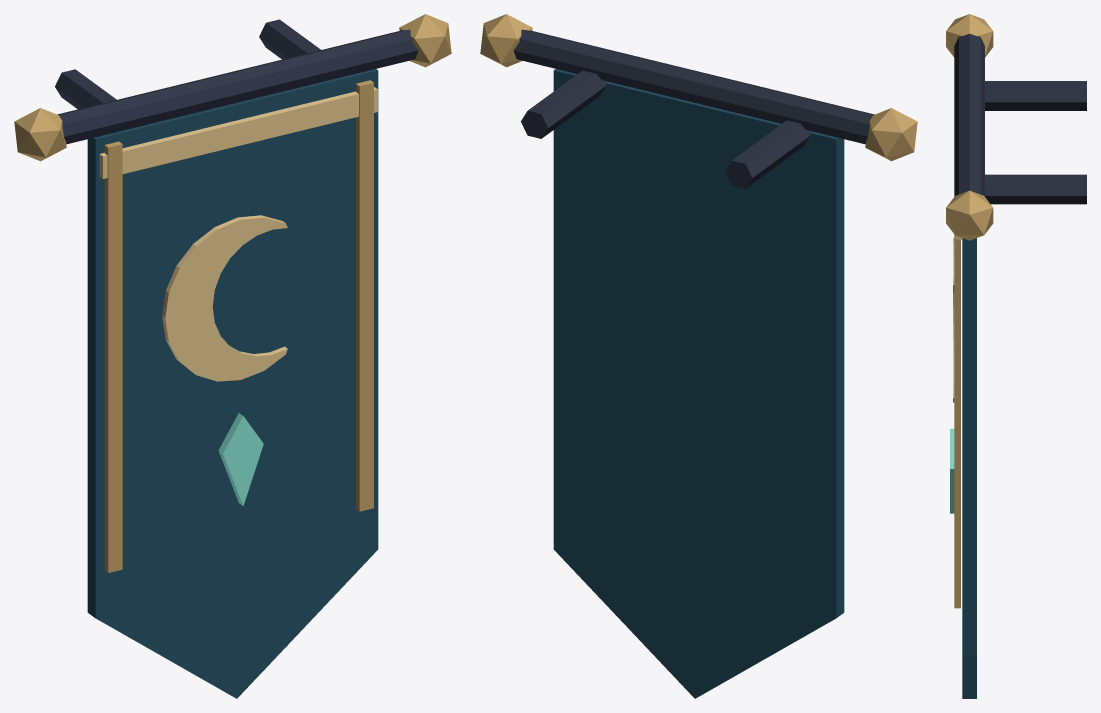
Rendered from EG_Estandarte_Luna.fbx.
The picture shows the model from 3 angles, left to right: view 1: azimuth 30°, elevation 25°; view 2: azimuth 150°, elevation 25°; view 3: azimuth 270°, elevation 25°; orthographic projection. The views are drawn at different scales.
Parts seen in each view (by area): view 1: EG_Estandarte_Luna; view 2: EG_Estandarte_Luna; view 3: EG_Estandarte_Luna.
Boxes of the visible parts, bbox=[...] form: EG_Estandarte_Luna: bbox=[14, 14, 451, 698]; EG_Estandarte_Luna: bbox=[480, 14, 917, 698]; EG_Estandarte_Luna: bbox=[946, 14, 1086, 698].
Bounding box in the file's own units: 1.1 × 1.55 × 0.3303.
2 materials, 2 textured.
